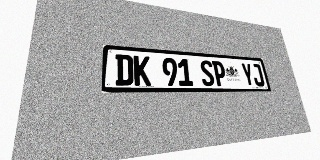1: (177, 58, 193, 86)
9: (162, 57, 179, 86)
D: (115, 54, 134, 86)
J: (250, 63, 265, 86)
K: (133, 55, 151, 86)
P: (212, 61, 228, 86)
S: (199, 60, 215, 86)
Y: (240, 63, 255, 86)
